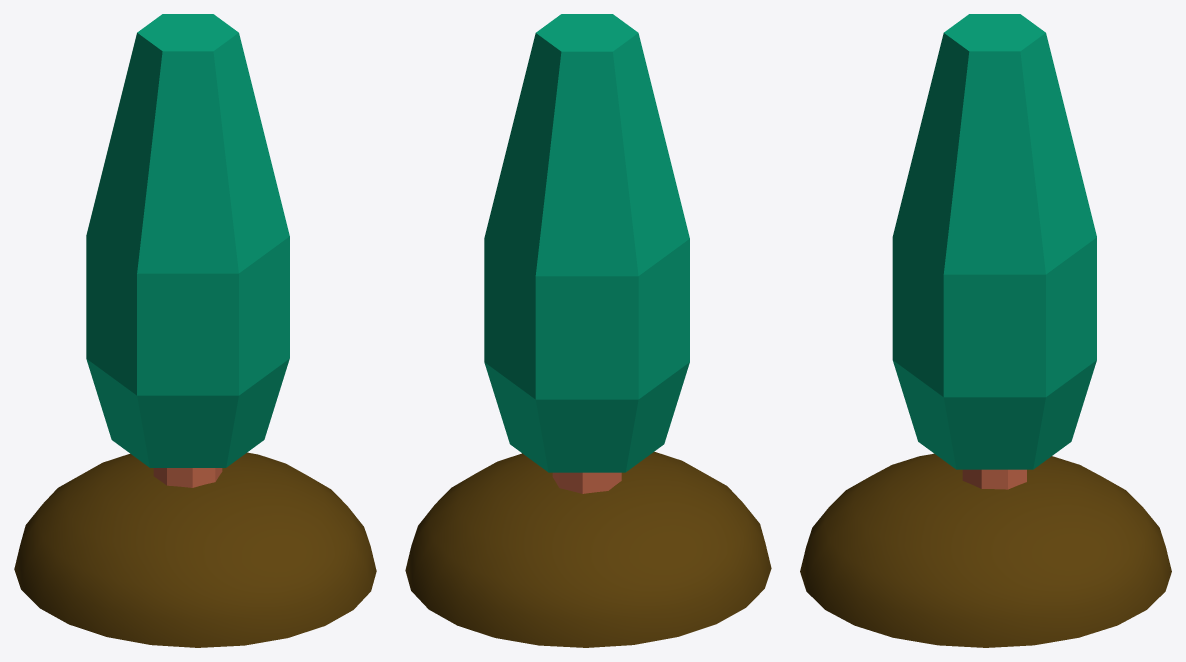
Rendered from WoodAndGround.fbx.
3 views of the same model, side by side, from view 1: azimuth 30°, elevation 25°; view 2: azimuth 150°, elevation 25°; view 3: azimuth 270°, elevation 25° (orthographic).
Visible parts, largest first — view 1: mergedBlocks; view 2: mergedBlocks; view 3: mergedBlocks.
Boxes of the visible parts, <box> form: mergedBlocks: <box>14,14,376,647</box>; mergedBlocks: <box>405,14,771,647</box>; mergedBlocks: <box>800,14,1171,647</box>.
Bounding box in the file's own units: 20.4 × 33.48 × 21.
